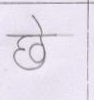e_matra: (32, 15, 47, 34)
